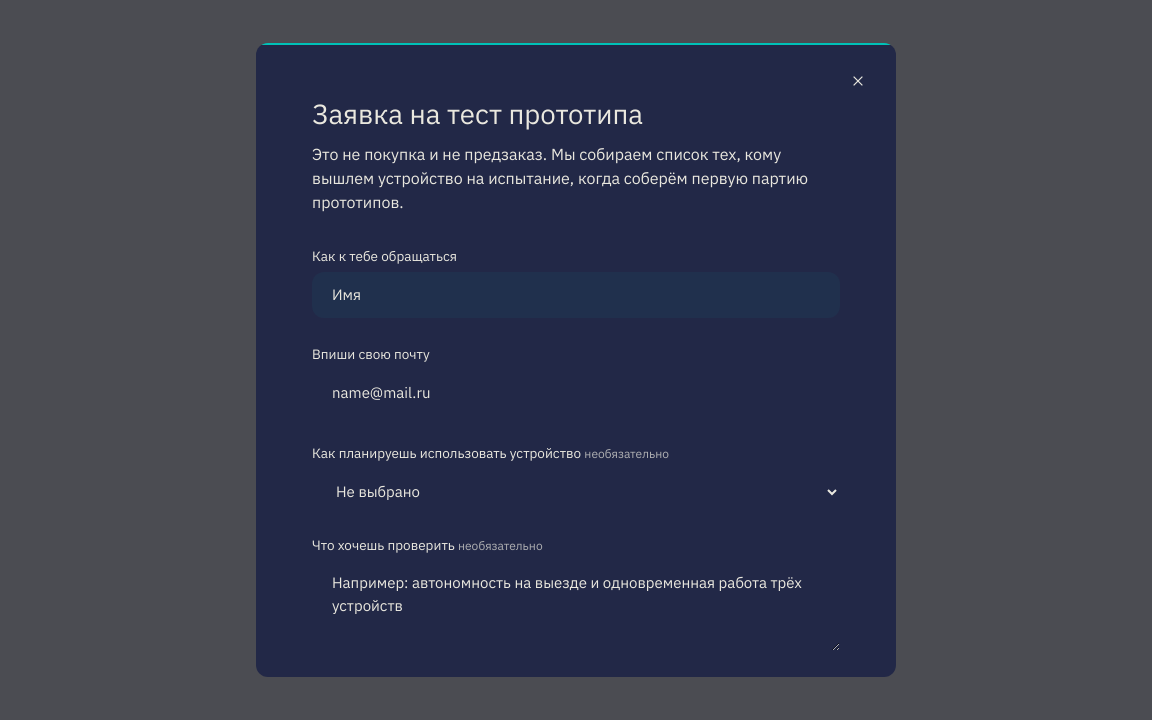
RequestModal › итог, пришедший при закрытом окне, показывается при следующем открытии и получает фокус
Type "Анна" into the field with id "fName" at point(576, 295), box [312,272,840,318]
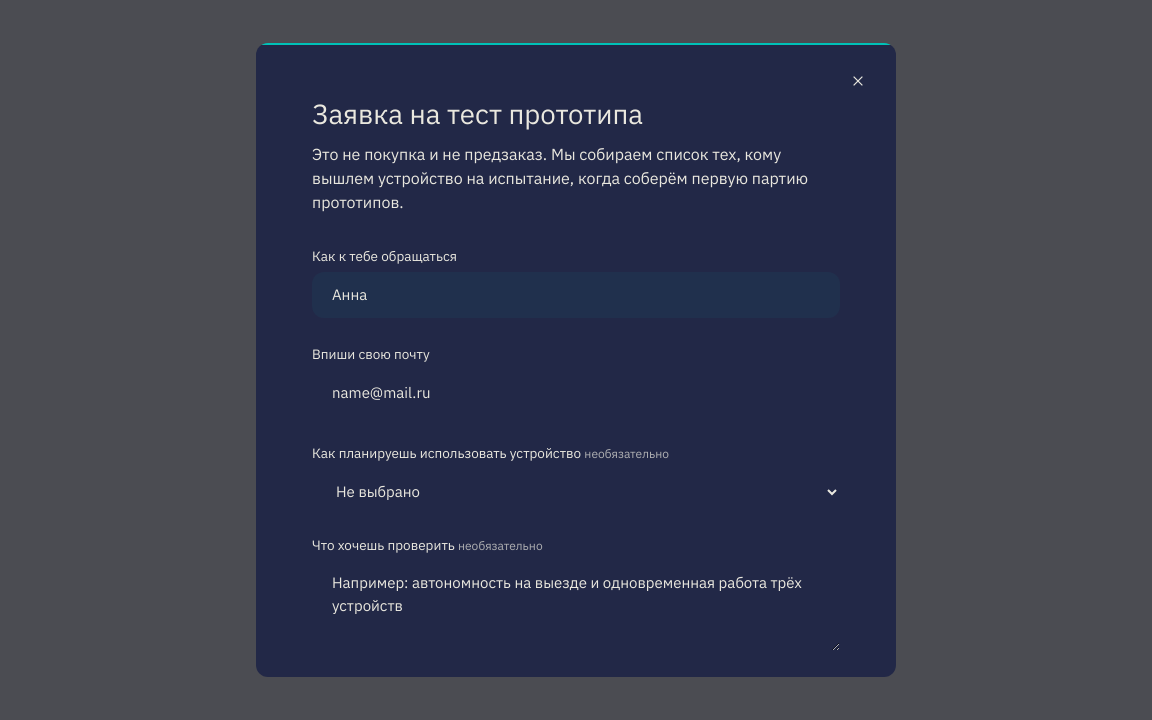
Type "anna@mail.ru" into the field with id "fMail" at point(576, 394), box [312,371,840,417]
(page scrolled)
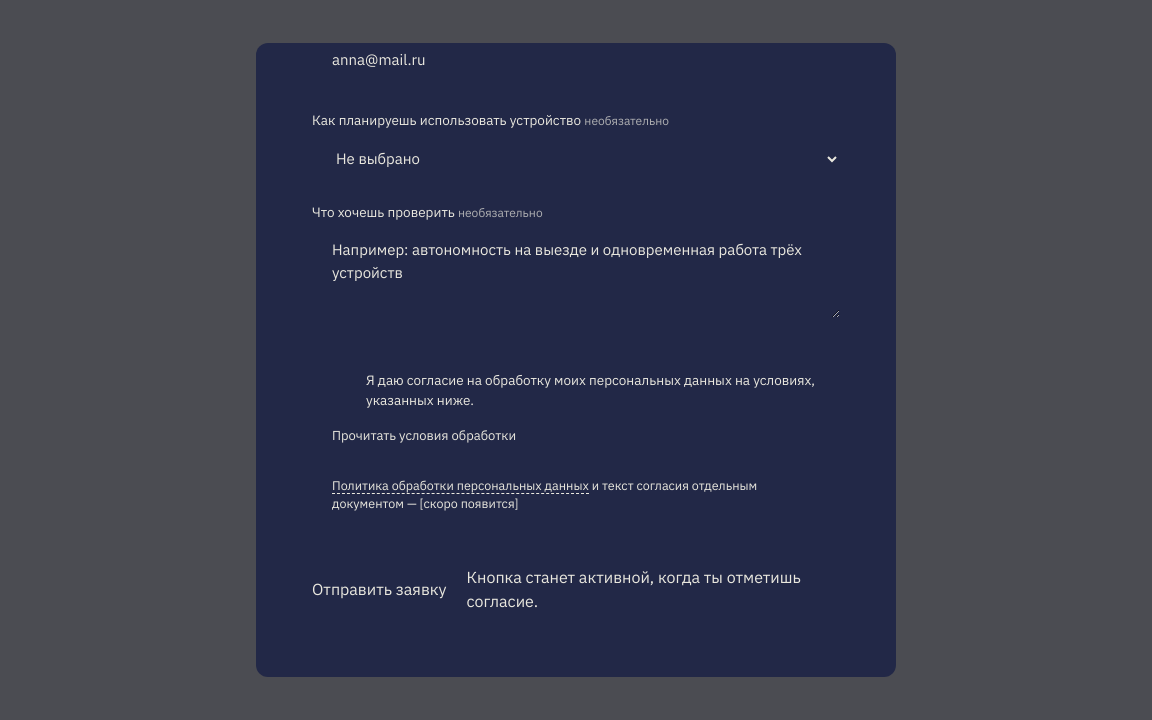
Click the checkbox with id "fConsent" at point(576, 390), box [332,370,820,410]
(page scrolled)
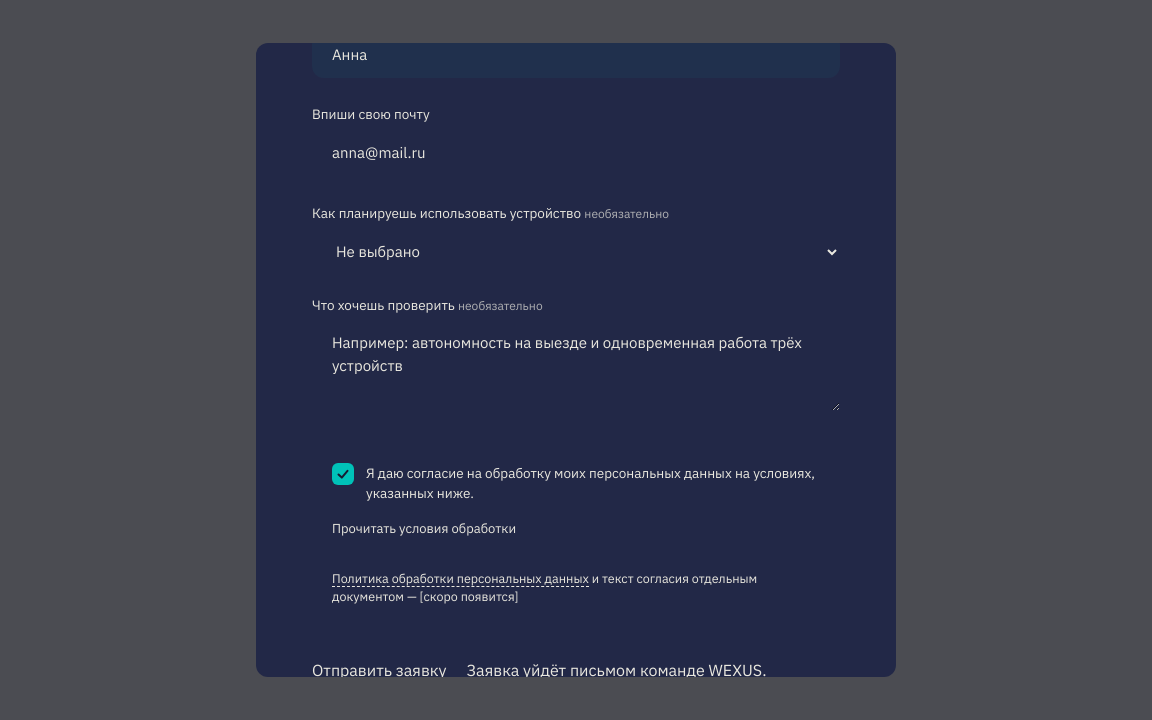
Submit the form, box [312,6,840,714]
Wait 800 ms
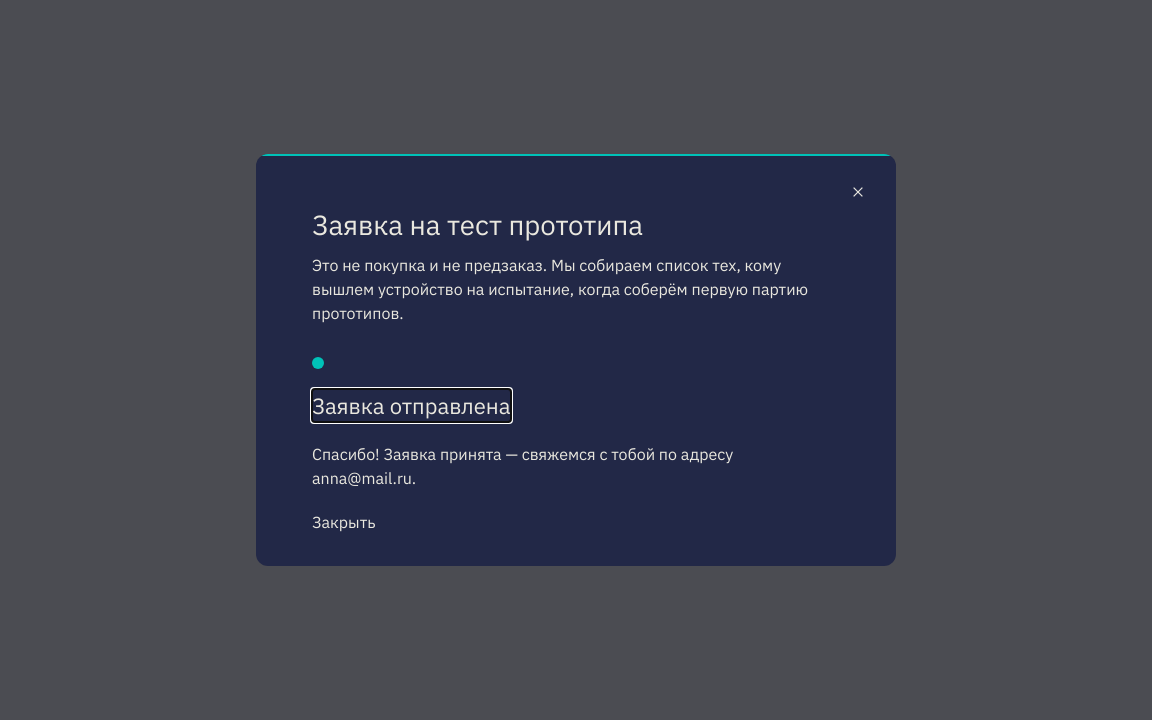
Expected: the heading with id "doneTitle" reads "Заявка отправлена", [312,391,511,420]
